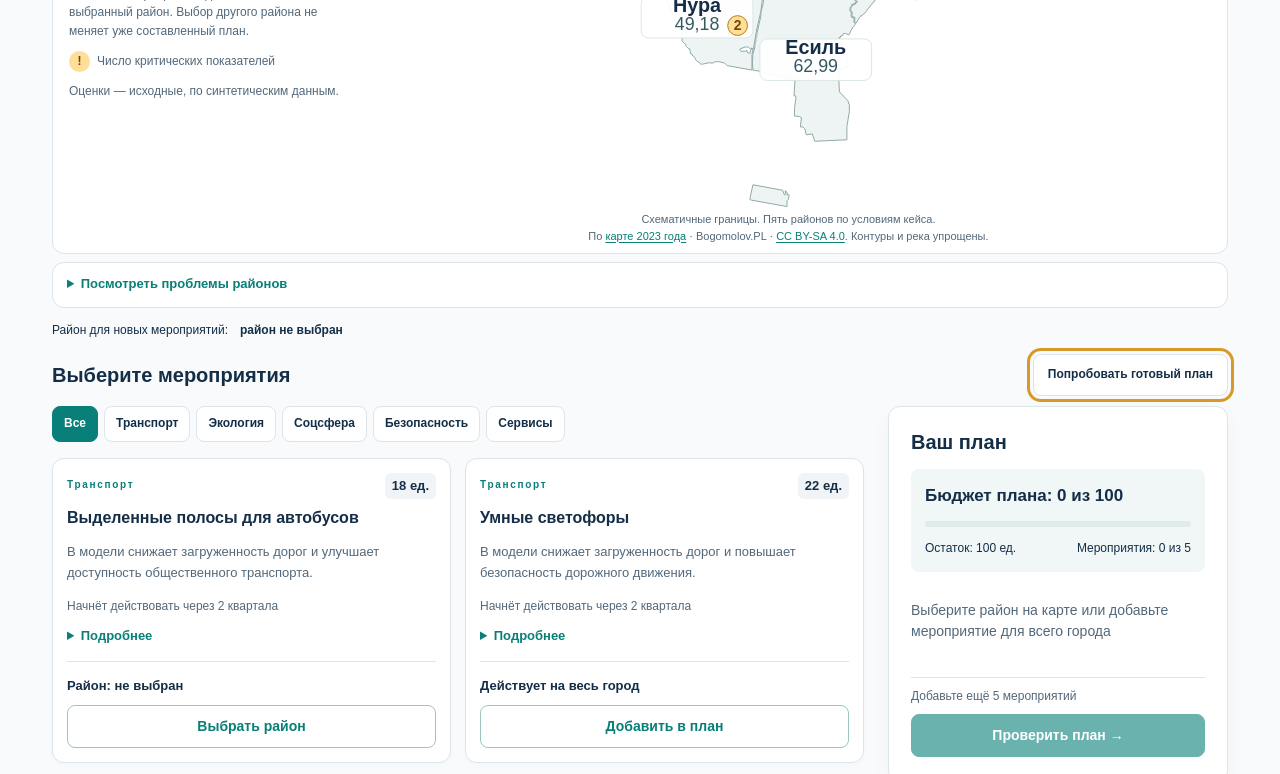
Scenario: ошибка не раскрывает API-детали, повтор показывает безопасный текст успеха
This screenshot has width=1280, height=774.
(page scrolled)
Click the button "Попробовать готовый план" at point(1130, 375), box [1033,354,1228,396]
(page scrolled)
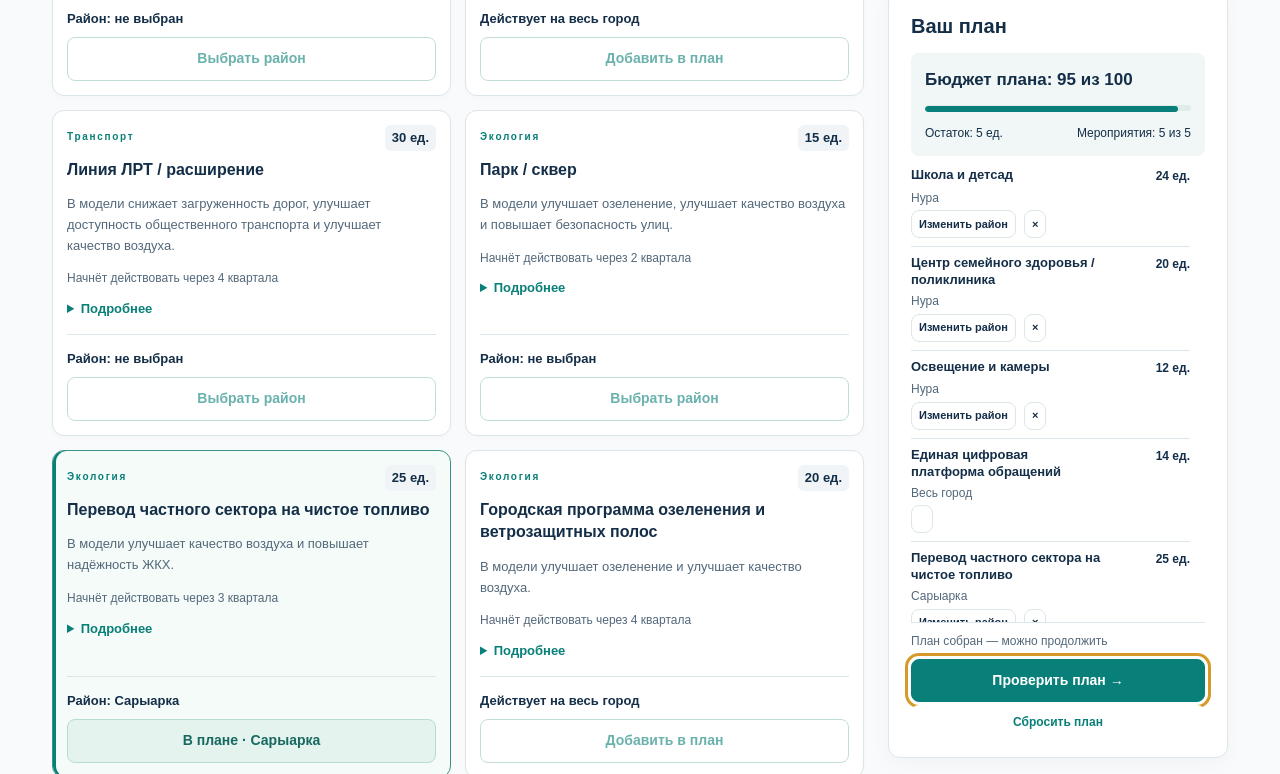
Click the button "Проверить план →" at point(1058, 680), box [911,658,1205,702]
(page scrolled)
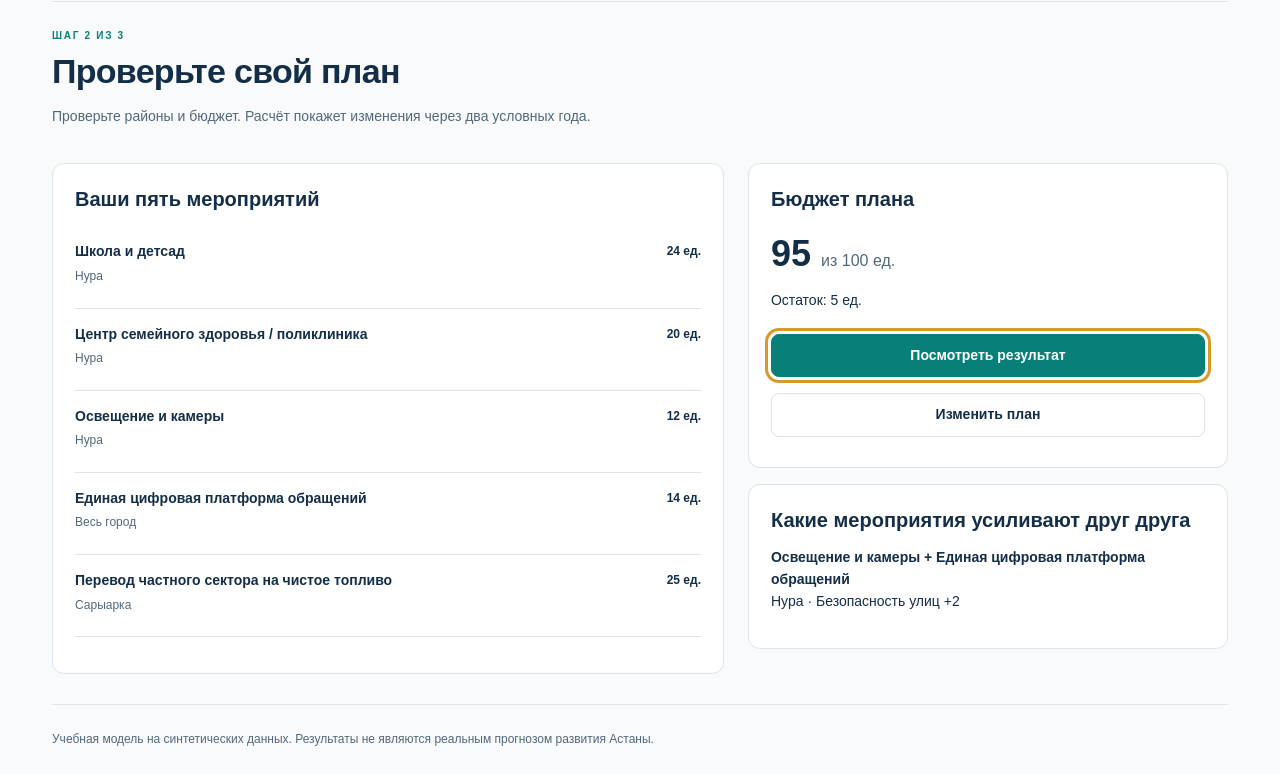
Click the button "Посмотреть результат" at point(988, 356), box [771,334,1205,378]
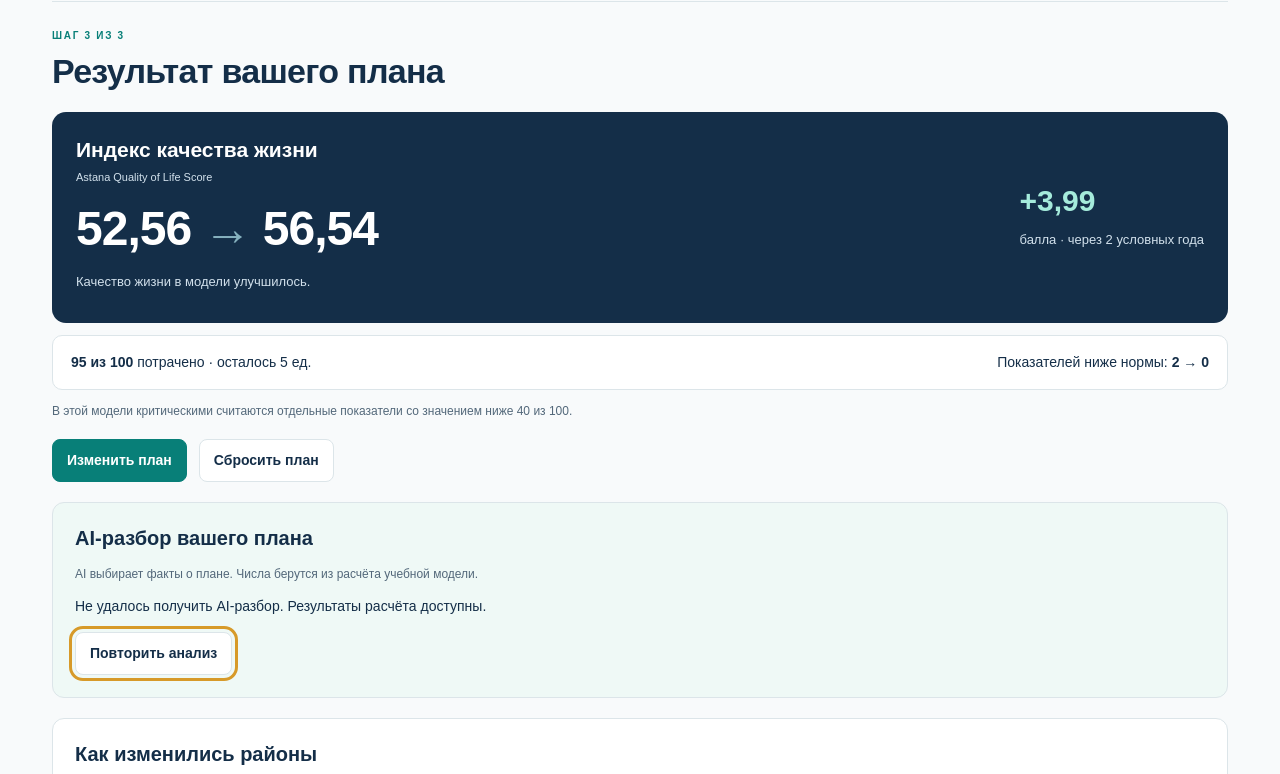
Expected: the text "Не удалось получить AI-разбор. Результаты расчёта доступны" is shown, [75,598,486,614]
Click the button "Повторить анализ" at point(154, 654), box [75,632,232,676]
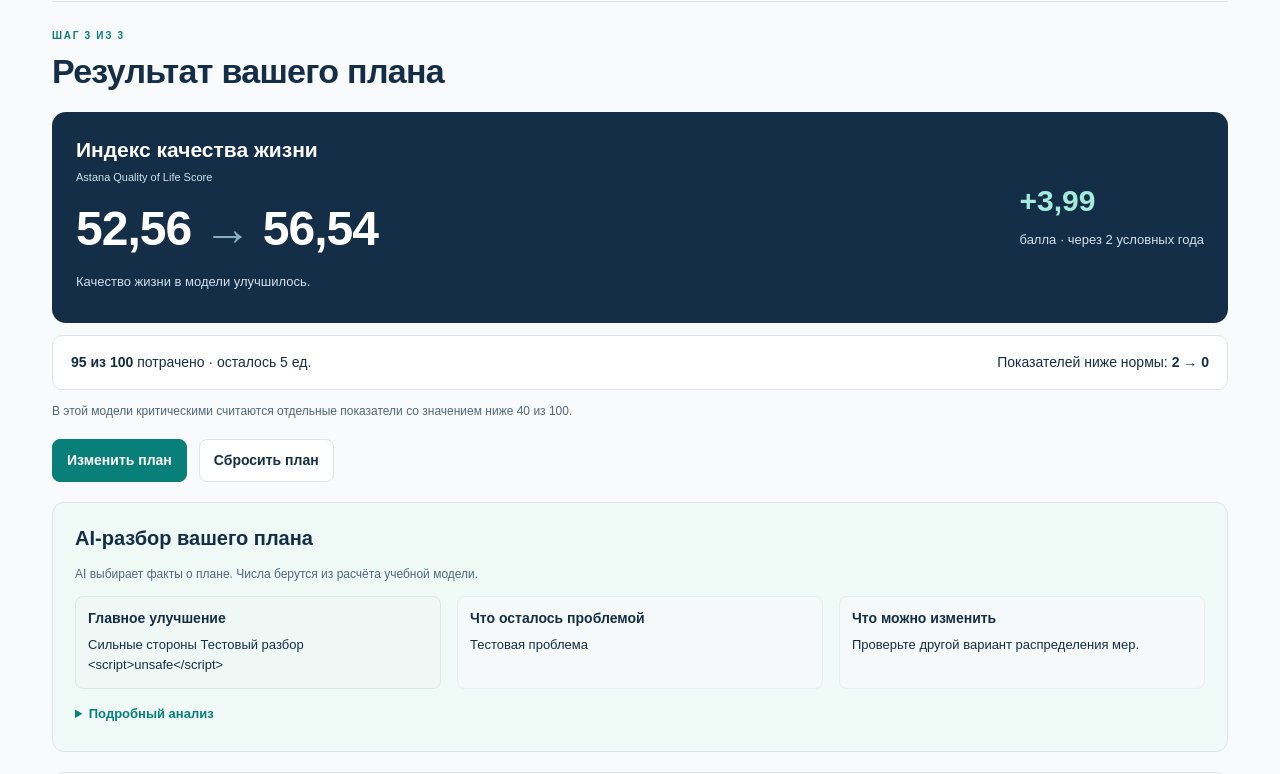
Expected: the text "Тестовый разбор" is shown, [88,637,304,672]
